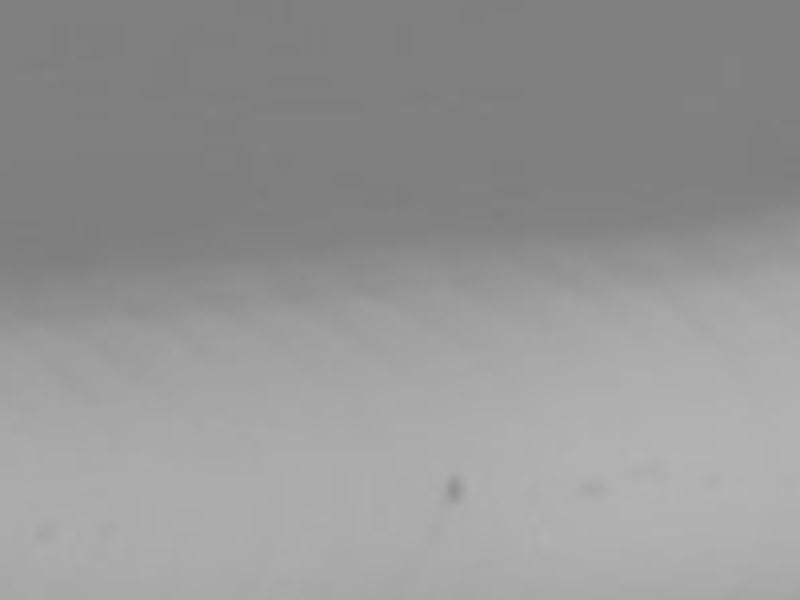defect: (442, 474, 465, 508), (582, 479, 616, 502)
